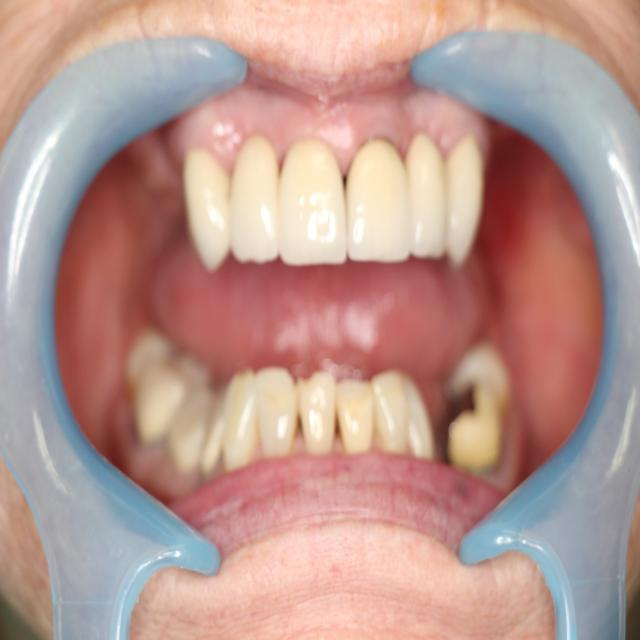tooth: (265, 165, 320, 287), (312, 171, 367, 284), (379, 316, 424, 422), (230, 174, 272, 283), (385, 178, 421, 295), (239, 314, 280, 414), (213, 304, 251, 410), (154, 167, 192, 270), (202, 172, 238, 280), (326, 320, 366, 415), (358, 318, 393, 423), (186, 304, 227, 392), (299, 320, 336, 415), (423, 306, 463, 393), (363, 185, 398, 282), (269, 321, 307, 403), (404, 318, 437, 407), (148, 296, 190, 363), (169, 303, 205, 377), (435, 192, 464, 282), (420, 200, 449, 287), (425, 279, 463, 338), (187, 180, 212, 265), (142, 185, 166, 273), (410, 202, 433, 289), (175, 199, 199, 265), (457, 196, 475, 261)
